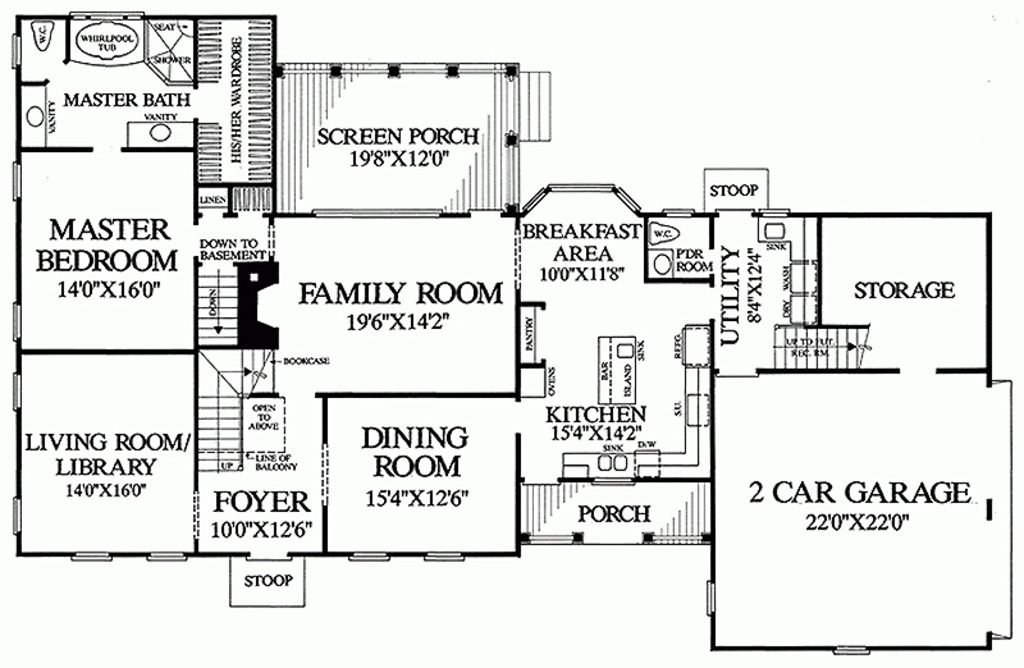kitchen_bar: (593, 333, 643, 412)
large_sink: (648, 221, 686, 253), (23, 21, 57, 53)
small_sink: (18, 79, 53, 149), (124, 120, 196, 145), (650, 246, 674, 283)
stairs: (193, 349, 251, 475), (192, 253, 243, 353), (773, 324, 873, 372), (517, 72, 556, 144)
tub: (68, 18, 145, 69)
twin_sink: (593, 449, 635, 476)
window: (522, 181, 641, 214), (307, 202, 442, 224), (142, 549, 190, 567), (10, 368, 26, 412), (828, 644, 873, 659), (420, 547, 464, 562), (703, 576, 718, 620), (9, 160, 24, 203), (67, 549, 112, 562), (8, 303, 23, 341), (345, 549, 392, 561), (10, 492, 22, 539)
